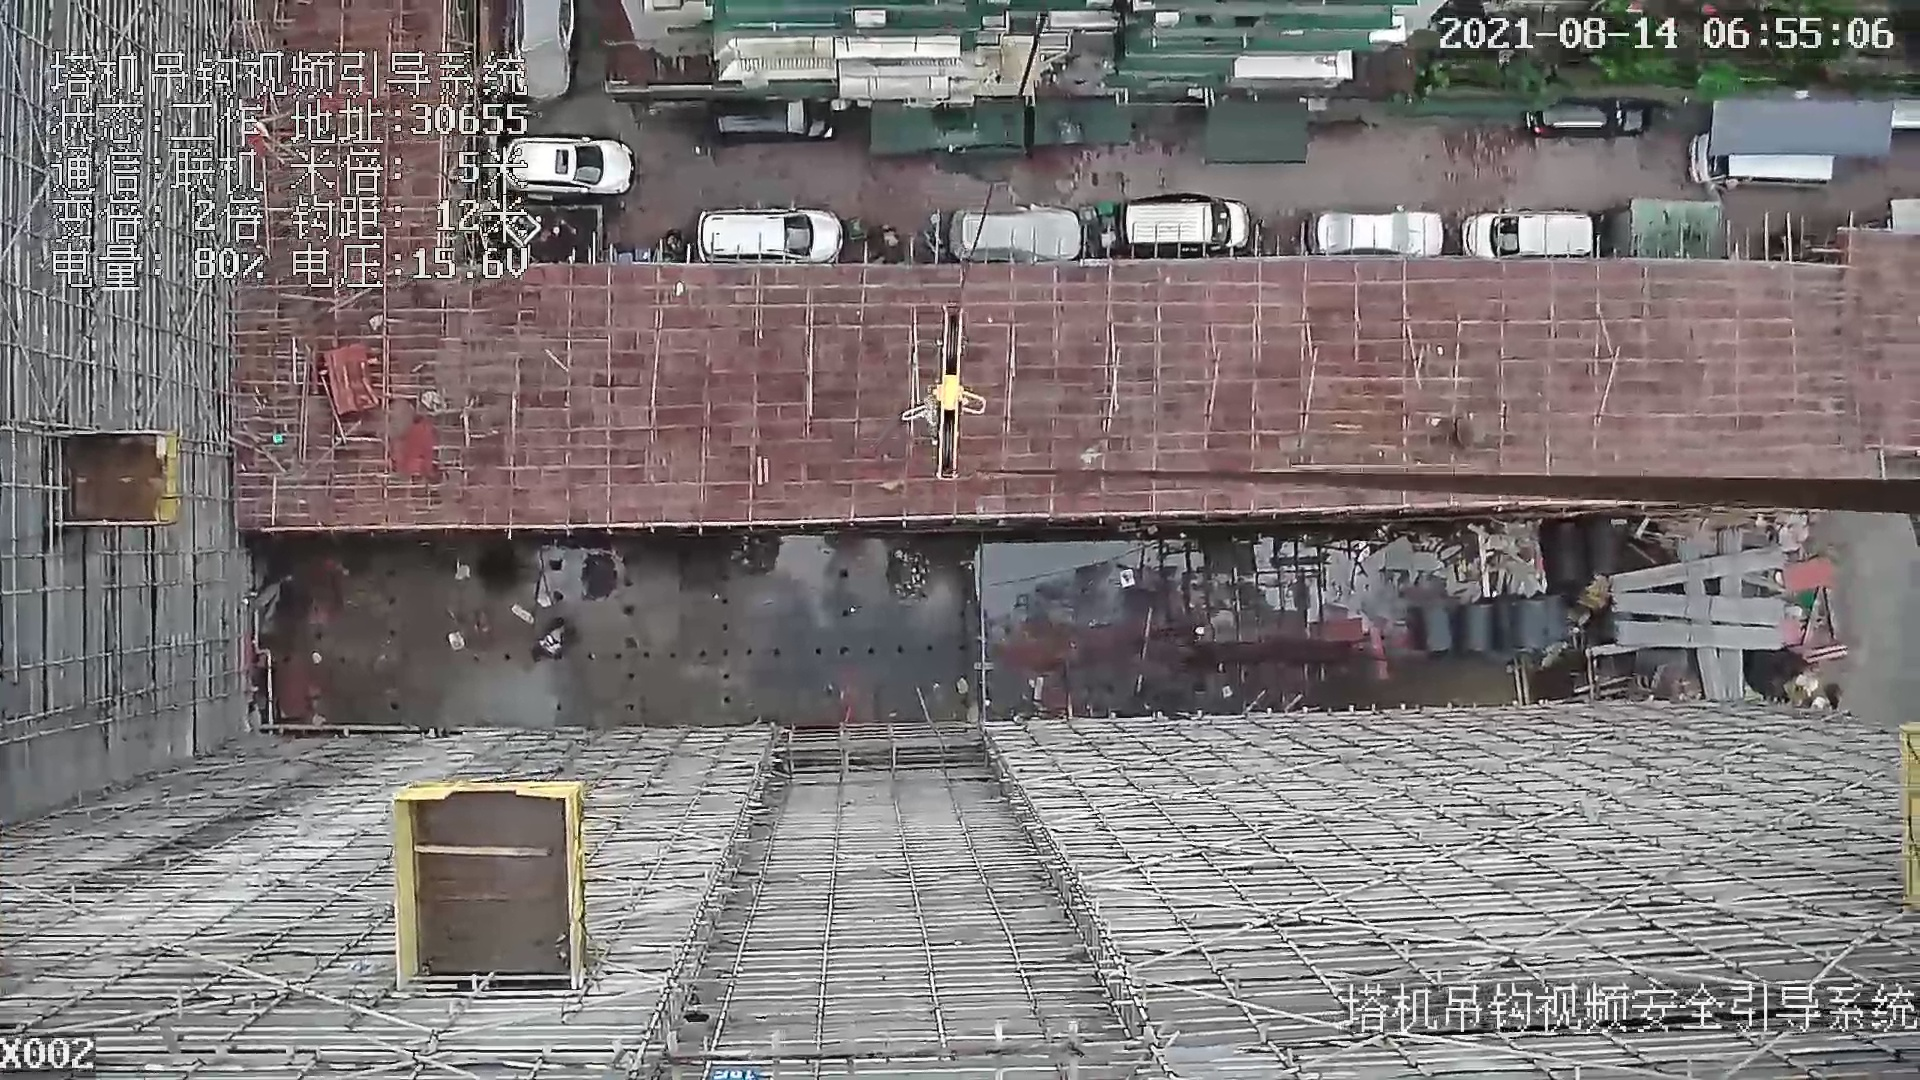hook: (927, 295, 986, 481)
rebar: (1611, 546, 1783, 593), (1613, 592, 1785, 626), (1615, 618, 1787, 650)
